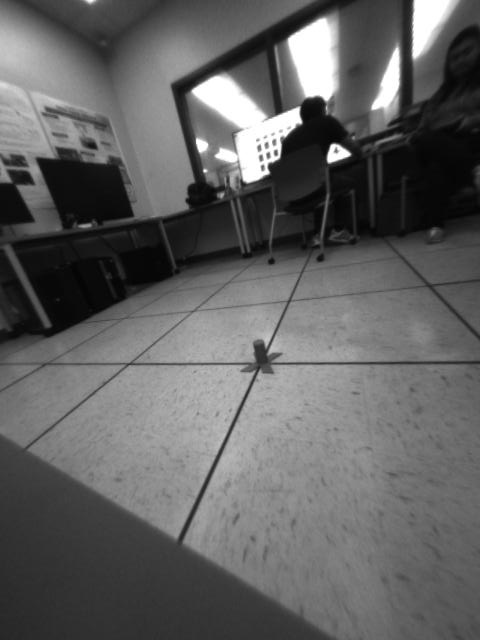X: (239, 336, 283, 378)
